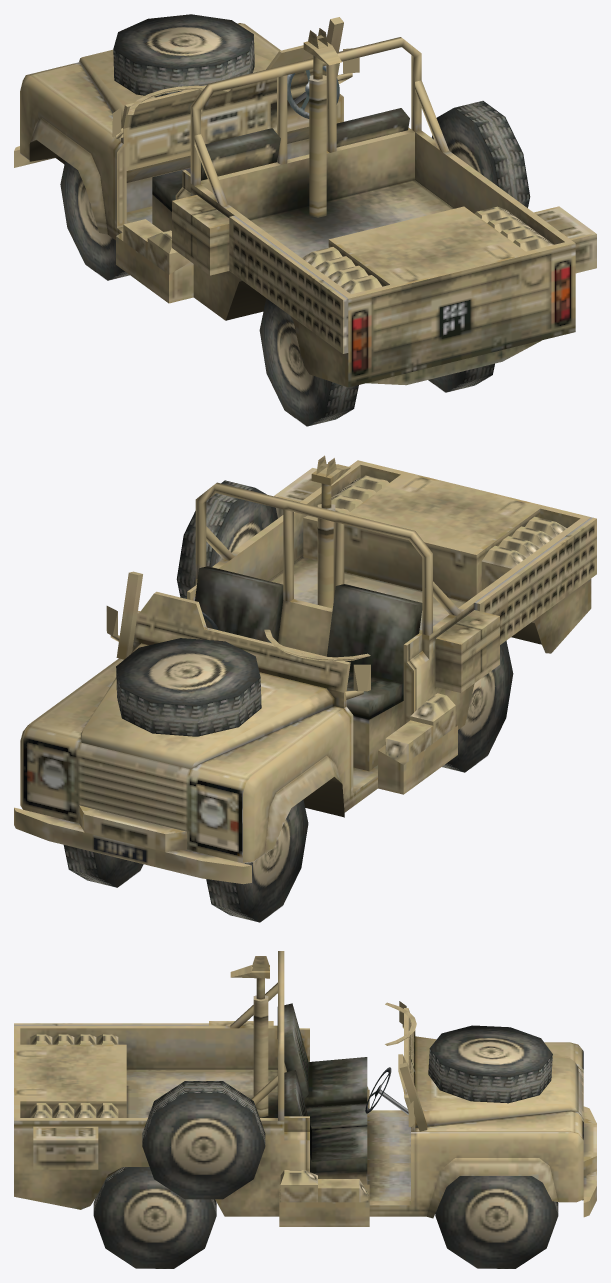
Rendered from SAS_LANDROVER_WITH_MILAN_SAW.glb.
The picture shows the model from 3 angles, top to bottom: view 1: azimuth 30°, elevation 25°; view 2: azimuth 150°, elevation 25°; view 3: azimuth 270°, elevation 25°; orthographic projection. The views are drawn at different scales.
Parts seen in each view (by area): view 1: LAND_ROVER, SAS_LAND_ROVER_RIGHT_WHEEL1 (×2), SAS_LAND_ROVER_LEFT_WHEEL1, 50 CAL CARIAGE; view 2: LAND_ROVER, SAS_LAND_ROVER_RIGHT_WHEEL1 (×2), SAS_LAND_ROVER_LEFT_WHEEL1, 50 CAL CARIAGE; view 3: LAND_ROVER, SAS_LAND_ROVER_LEFT_WHEEL1 (×2), 50 CAL CARIAGE.
Part boxes in pixels (box(x1,y1,x2,y2)): LAND_ROVER: box(14, 14, 596, 387); SAS_LAND_ROVER_RIGHT_WHEEL1 (×2): box(60, 161, 358, 426); SAS_LAND_ROVER_LEFT_WHEEL1: box(428, 363, 494, 392); 50 CAL CARIAGE: box(303, 28, 341, 65); LAND_ROVER: box(14, 460, 596, 884); SAS_LAND_ROVER_RIGHT_WHEEL1 (×2): box(206, 640, 513, 922); SAS_LAND_ROVER_LEFT_WHEEL1: box(63, 845, 143, 887); 50 CAL CARIAGE: box(311, 455, 350, 485); LAND_ROVER: box(14, 951, 596, 1226); SAS_LAND_ROVER_LEFT_WHEEL1 (×2): box(93, 1167, 558, 1268); 50 CAL CARIAGE: box(230, 956, 269, 978).
Bounding box in the file's own units: 2.17 × 2.35 × 4.49.
3 materials, 3 textured.
